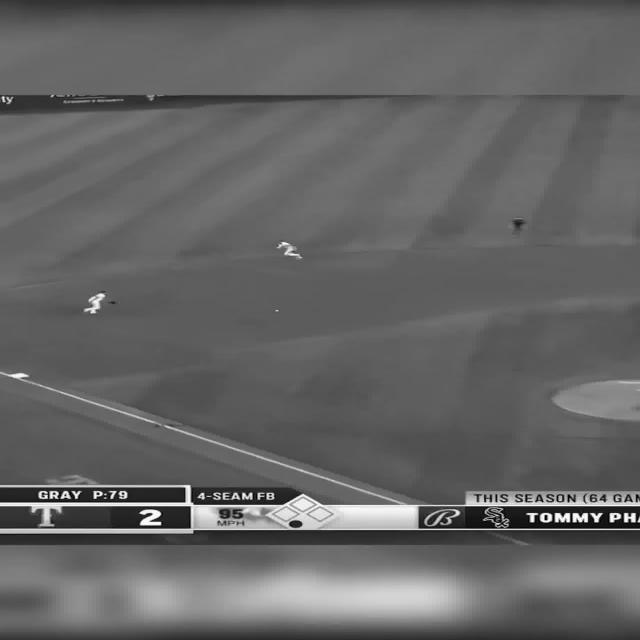base: (7, 372, 29, 379)
baseball: (273, 309, 280, 312)
